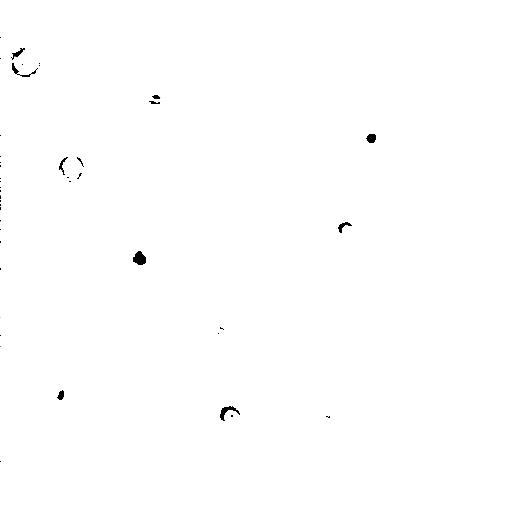micro-algae: (120, 235, 161, 278), (43, 379, 78, 416), (355, 119, 390, 155), (57, 151, 87, 184), (7, 47, 41, 76), (329, 217, 363, 245), (491, 141, 511, 186), (186, 0, 226, 13), (219, 406, 242, 427)
